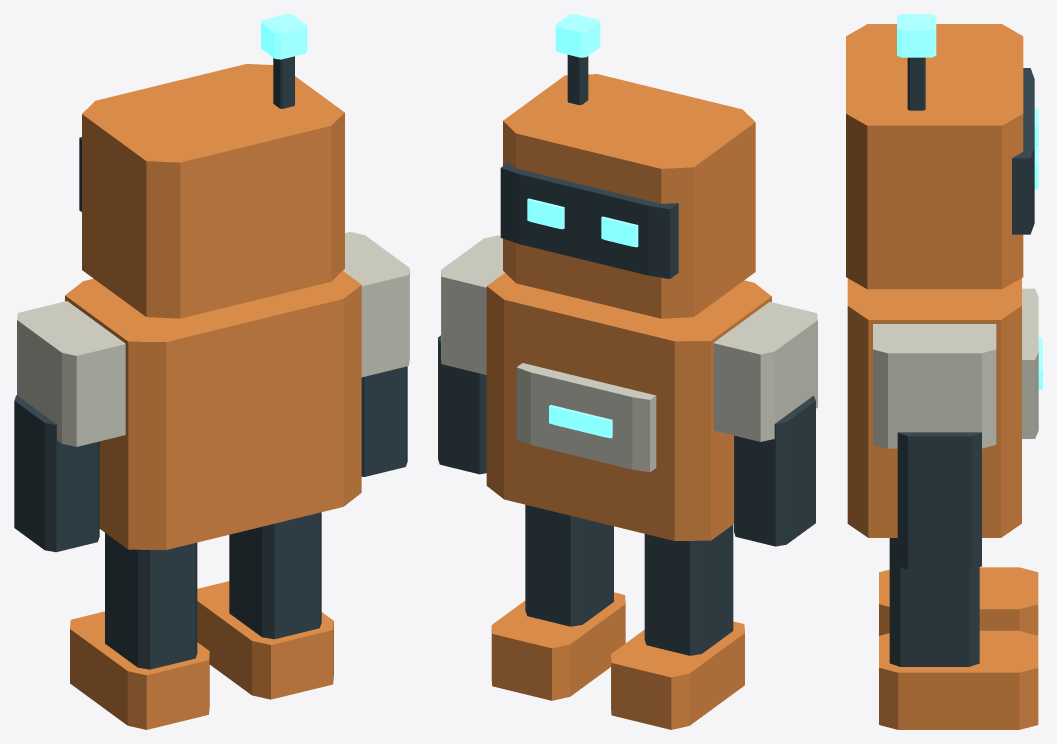
The model's file is scout-robot.glb.
3 renders of one model, left to right at view 1: azimuth 30°, elevation 25°; view 2: azimuth 150°, elevation 25°; view 3: azimuth 270°, elevation 25°, orthographic. The views are drawn at different scales.
Visible parts, largest first — view 1: Torso, Head, Left shoulder, Left leg, Left forearm, Right leg, Left boot, Right boot, Right shoulder, Right forearm, Antenna tip, Antenna; view 2: Torso, Head, Visor, Left shoulder, Chest panel, Left leg, Left boot, Right boot, Left forearm, Right leg, Right shoulder, Right forearm (+5 smaller); view 3: Head, Torso, Right shoulder, Right boot, Right forearm, Right leg, Left boot, Visor, Chest panel, Antenna tip, Antenna.
Part boxes in pixels (x1,y1,x2,y2): Torso: [65, 271, 361, 549]; Head: [82, 64, 344, 318]; Left shoulder: [17, 301, 125, 446]; Left leg: [105, 533, 197, 669]; Left forearm: [14, 395, 99, 552]; Right leg: [229, 512, 321, 639]; Left boot: [70, 611, 209, 729]; Right boot: [197, 581, 333, 699]; Right shoulder: [343, 232, 409, 377]; Right forearm: [361, 366, 407, 476]; Antenna tip: [261, 14, 307, 59]; Antenna: [273, 56, 294, 108]; Torso: [486, 273, 771, 540]; Head: [503, 74, 755, 318]; Visor: [500, 162, 678, 278]; Left shoulder: [713, 302, 817, 441]; Chest panel: [516, 363, 656, 472]; Left leg: [644, 525, 733, 655]; Left boot: [611, 621, 744, 729]; Right boot: [491, 592, 625, 700]; Left forearm: [734, 396, 815, 546]; Right leg: [525, 504, 613, 626]; Right shoulder: [441, 235, 504, 374]; Right forearm: [438, 335, 486, 474]; Head: [846, 24, 1023, 289]; Torso: [847, 278, 1021, 537]; Right shoulder: [873, 324, 996, 448]; Right boot: [879, 630, 1038, 729]; Right forearm: [897, 432, 981, 569]; Right leg: [889, 538, 979, 666]; Left boot: [879, 567, 1038, 635]; Visor: [1012, 68, 1034, 234]; Chest panel: [1022, 288, 1038, 438]; Antenna tip: [897, 14, 936, 57]; Antenna: [907, 57, 925, 110].
Size of the model in its own units: 1.46 by 2.52 by 0.655.
